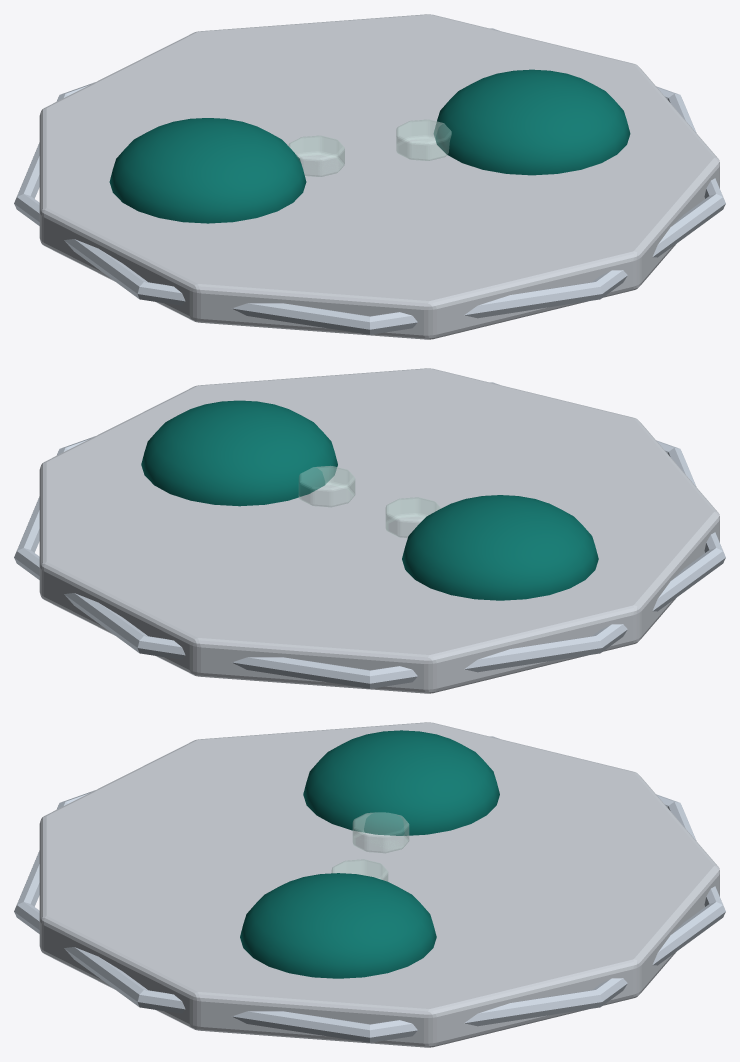
The model's file is e16_disrupcion.glb.
The picture shows the model from 3 angles, top to bottom: view 1: azimuth 30°, elevation 25°; view 2: azimuth 150°, elevation 25°; view 3: azimuth 270°, elevation 25°; orthographic projection.
Visible parts, largest first — view 1: PLT_BASE_NONAGONO, PLT_E16_ISLA_1, PLT_E16_ISLA_2, PLT_ARO_METAL, PED_P2, PED_P1; view 2: PLT_BASE_NONAGONO, PLT_E16_ISLA_1, PLT_E16_ISLA_2, PLT_ARO_METAL, PED_P2, PED_P1; view 3: PLT_BASE_NONAGONO, PLT_E16_ISLA_2, PLT_E16_ISLA_1, PLT_ARO_METAL, PED_P1, PED_P2.
Boxes of the visible parts, x1,y1,x2,y2 form: PLT_BASE_NONAGONO: [39, 14, 719, 339]; PLT_E16_ISLA_1: [109, 118, 306, 223]; PLT_E16_ISLA_2: [434, 69, 630, 175]; PLT_ARO_METAL: [14, 28, 725, 334]; PED_P2: [396, 119, 451, 160]; PED_P1: [288, 135, 344, 176]; PLT_BASE_NONAGONO: [39, 368, 719, 693]; PLT_E16_ISLA_1: [402, 495, 598, 600]; PLT_E16_ISLA_2: [141, 400, 337, 506]; PLT_ARO_METAL: [14, 382, 725, 688]; PED_P2: [298, 466, 355, 507]; PED_P1: [385, 497, 440, 537]; PLT_BASE_NONAGONO: [39, 722, 719, 1047]; PLT_E16_ISLA_2: [240, 873, 436, 978]; PLT_E16_ISLA_1: [303, 730, 499, 835]; PLT_ARO_METAL: [14, 736, 725, 1042]; PED_P1: [352, 812, 409, 853]; PED_P2: [331, 859, 388, 881].
Size of what is drawn, in the model's own units: 10.05 by 1.54 by 10.12.
